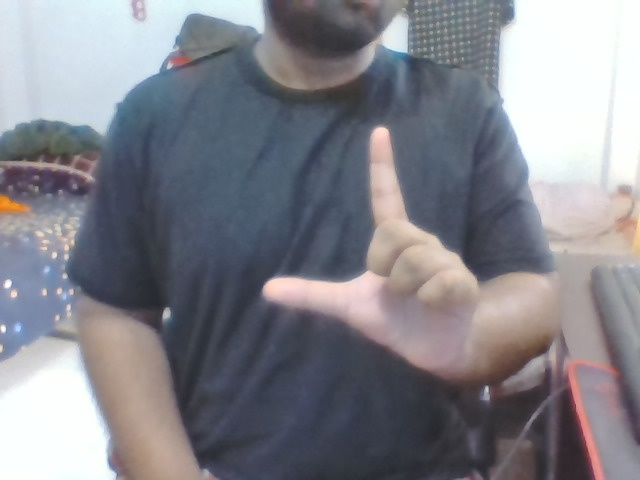L: (237, 118, 493, 380)
